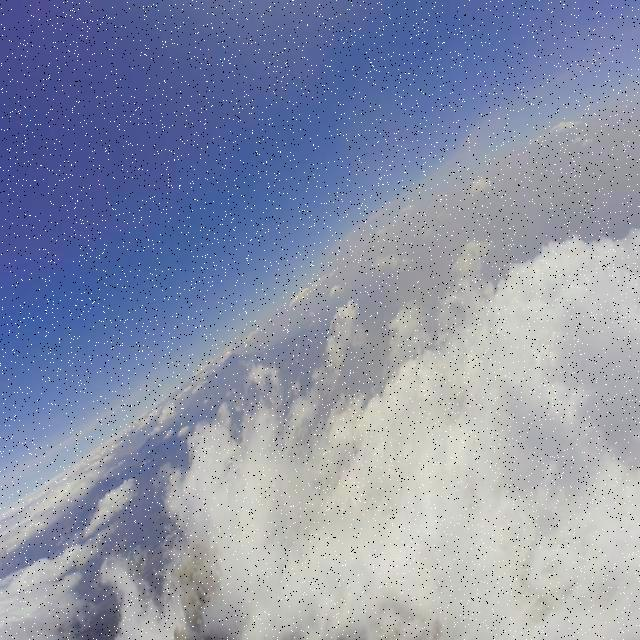Plume: (168, 530, 226, 640)
